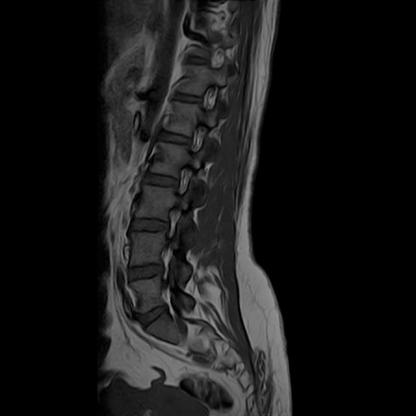Disc Bulgerotation: (126, 263, 165, 284), (134, 307, 171, 326)
